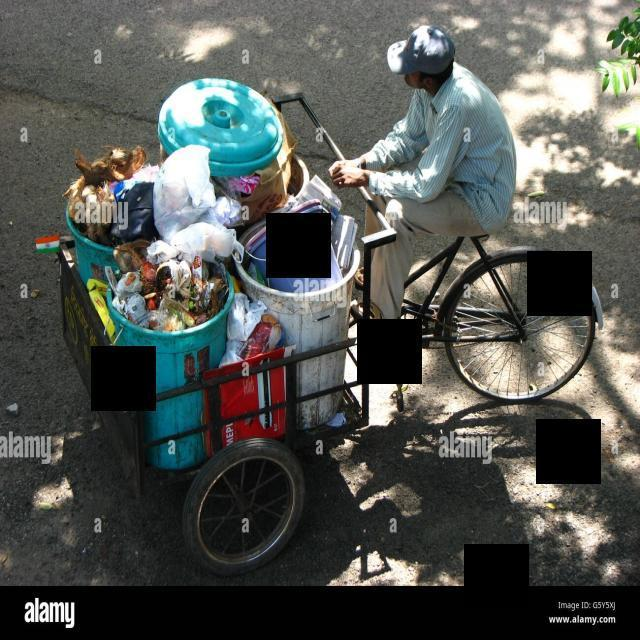Garbage: (65, 79, 360, 397)
Plastic: (158, 78, 284, 176), (246, 200, 342, 293)
Plastic_Bag: (154, 145, 216, 242), (170, 197, 244, 262), (226, 293, 266, 342), (110, 165, 160, 199), (124, 293, 148, 326)
Plastic_wraper: (191, 256, 204, 304)
